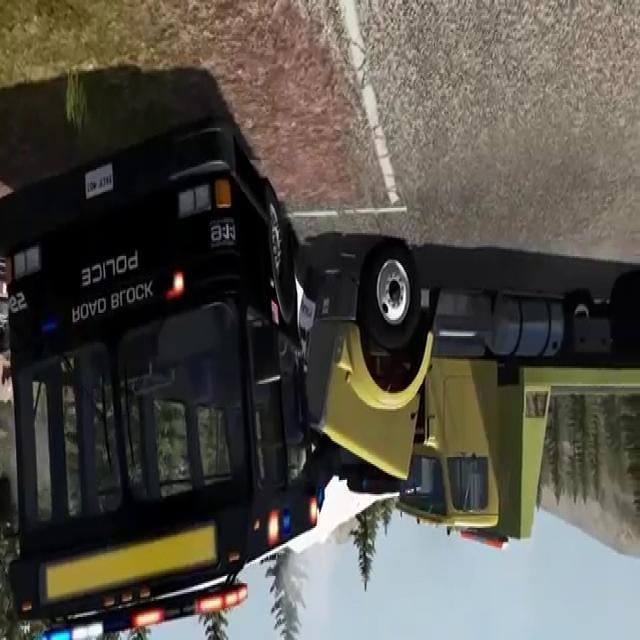severe: (0, 101, 637, 640)
